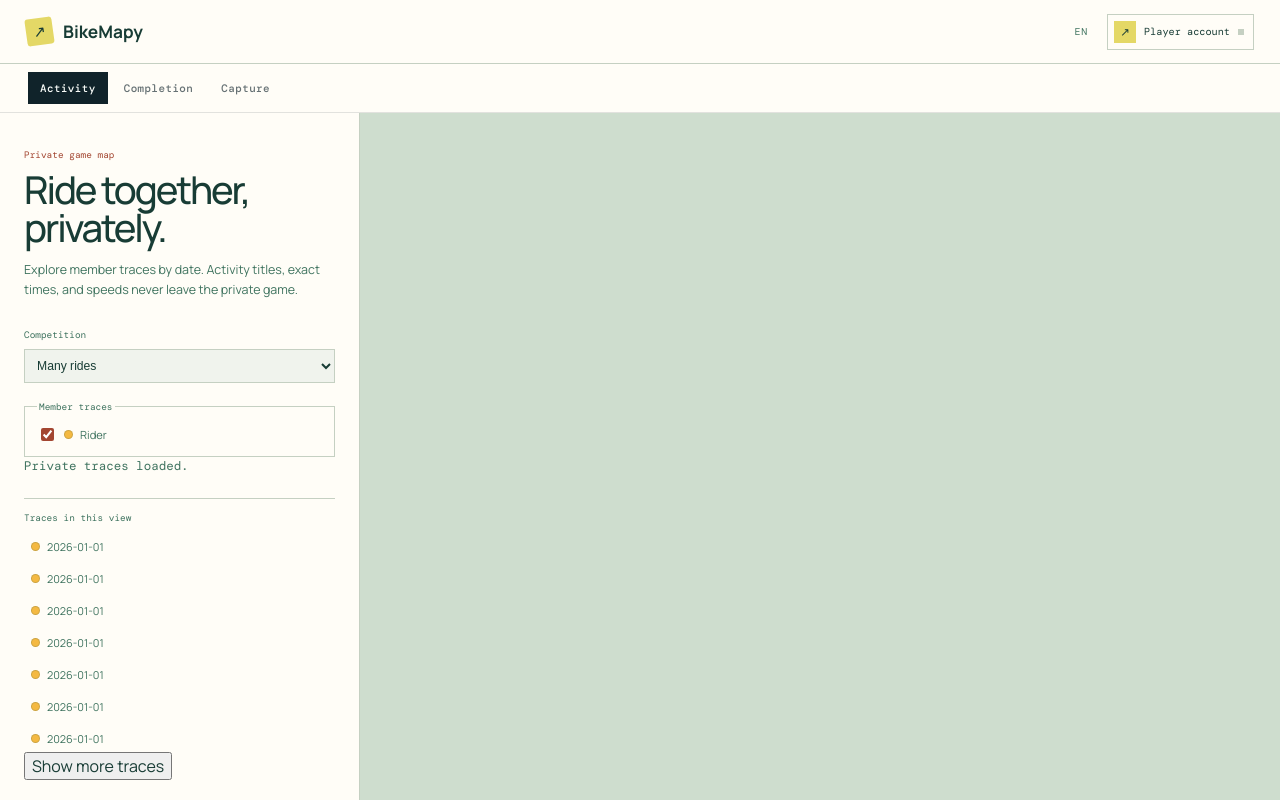
Test case: private game map presentation › keeps all traces reachable through the accessible load-more window
The image size is (1280, 800).
Expected: the heading "Traces in this view" is shown, left=24, top=512, right=131, bottom=524
Click the button "Show more traces" at (98, 766), box left=24, top=752, right=172, bottom=780
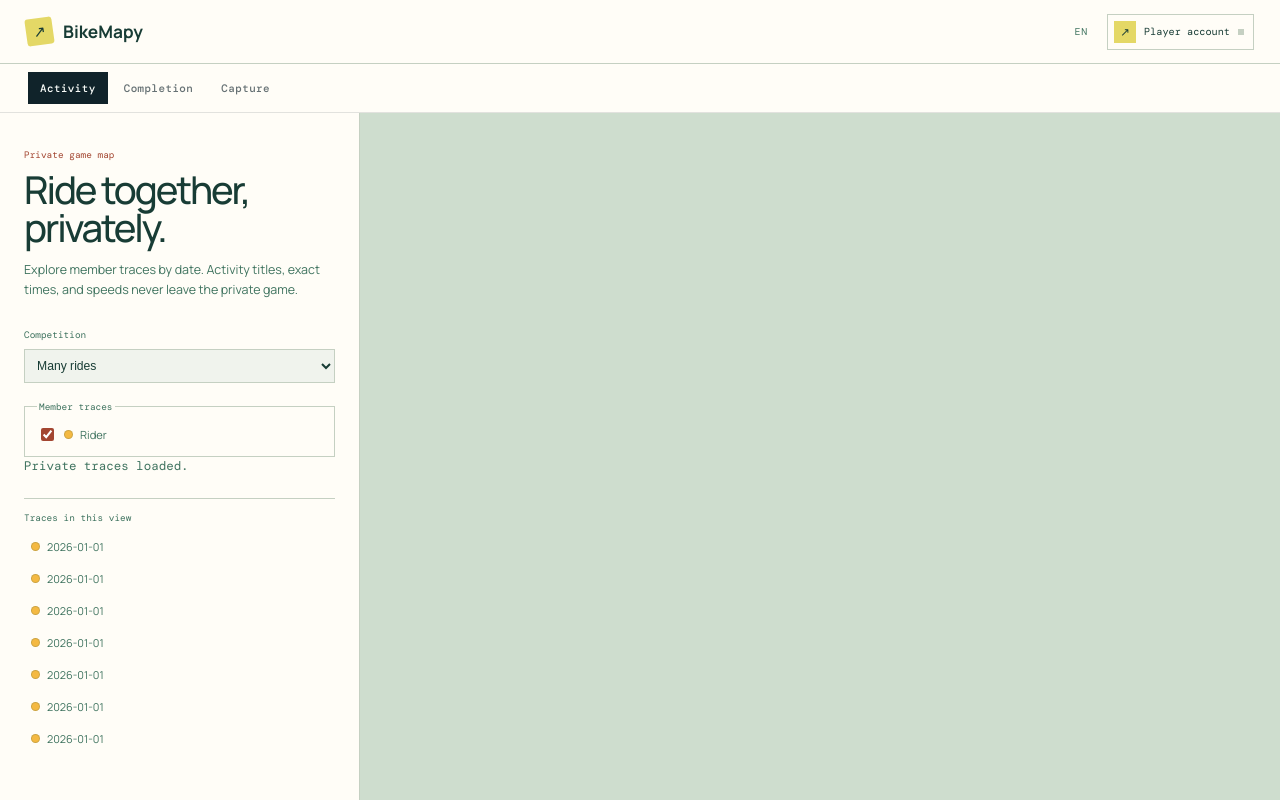
Result: the button "Show more traces" is gone
